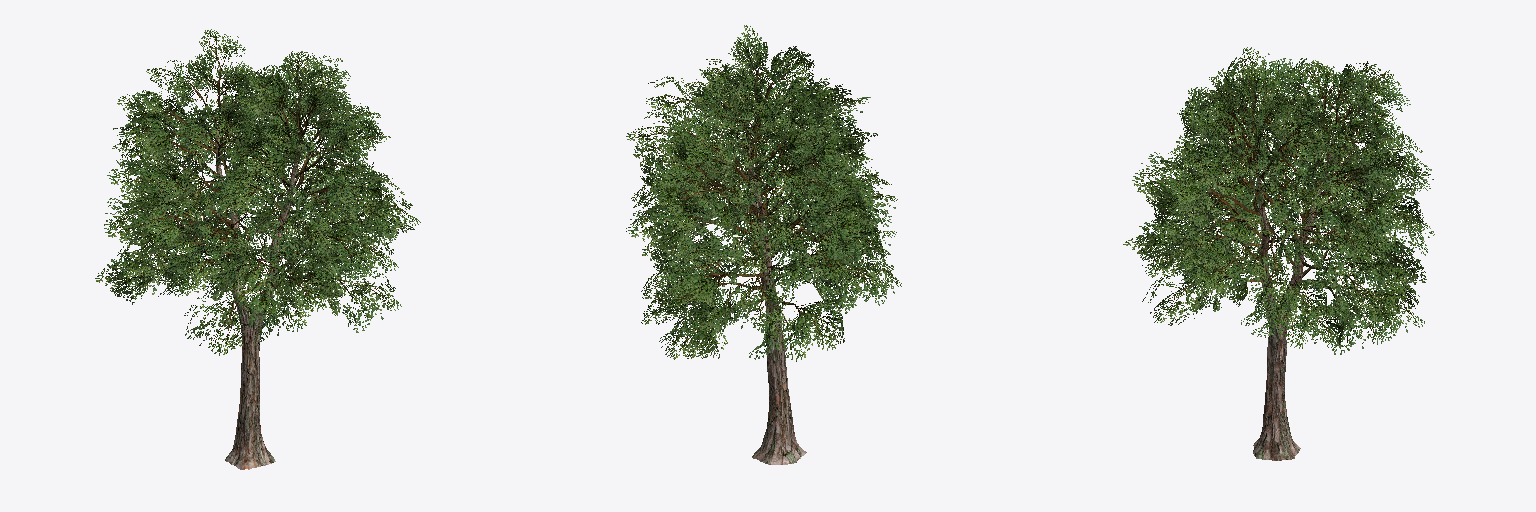
3 views of the same model, side by side, from view 1: azimuth 30°, elevation 25°; view 2: azimuth 150°, elevation 25°; view 3: azimuth 270°, elevation 25° (orthographic).
Parts seen in each view (by area): view 1: AM113_016_Quercusgw045; view 2: AM113_016_Quercusgw045; view 3: AM113_016_Quercusgw045.
Boxes of the visible parts, <box> form: AM113_016_Quercusgw045: <box>95,29,420,469</box>; AM113_016_Quercusgw045: <box>626,25,901,464</box>; AM113_016_Quercusgw045: <box>1123,47,1434,460</box>.
Size of the model in its own units: 381 by 522 by 381.
2 materials, 2 textured.